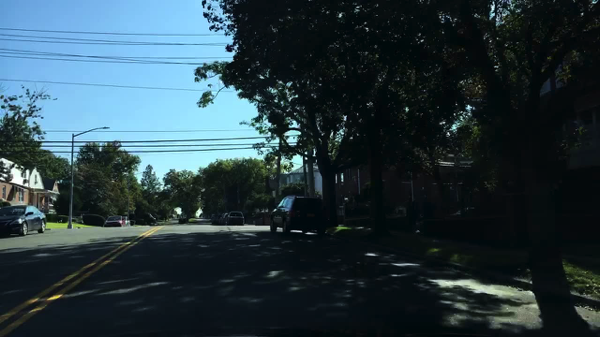car: (269, 195, 326, 236), (0, 206, 47, 236), (408, 197, 430, 220), (224, 211, 245, 225), (104, 215, 125, 228), (450, 208, 472, 218), (212, 214, 223, 225), (143, 213, 156, 222), (218, 213, 228, 224), (209, 213, 217, 225), (73, 217, 84, 225), (122, 217, 131, 226), (168, 214, 175, 220)
